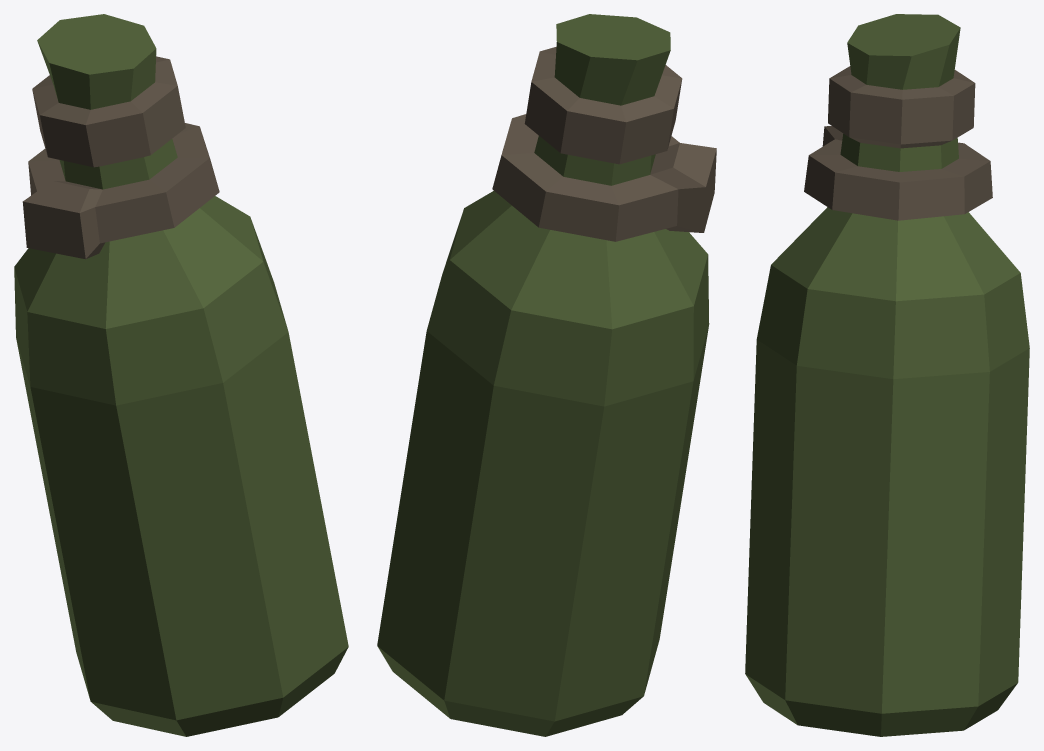
Rendered from Chr_HipsAttachment_09_Static.fbx.
3 views of the same model, side by side, from view 1: azimuth 30°, elevation 25°; view 2: azimuth 150°, elevation 25°; view 3: azimuth 270°, elevation 25° (orthographic). The views are drawn at different scales.
Visible parts, largest first — view 1: Chr_HipsAttachment_09_Static; view 2: Chr_HipsAttachment_09_Static; view 3: Chr_HipsAttachment_09_Static.
Part boxes in pixels (x1=…): Chr_HipsAttachment_09_Static: x1=14, y1=14, x2=348, y2=736; Chr_HipsAttachment_09_Static: x1=377, y1=14, x2=716, y2=736; Chr_HipsAttachment_09_Static: x1=745, y1=14, x2=1029, y2=736.
Size of the model in its own units: 0.16 by 0.3345 by 0.134.
